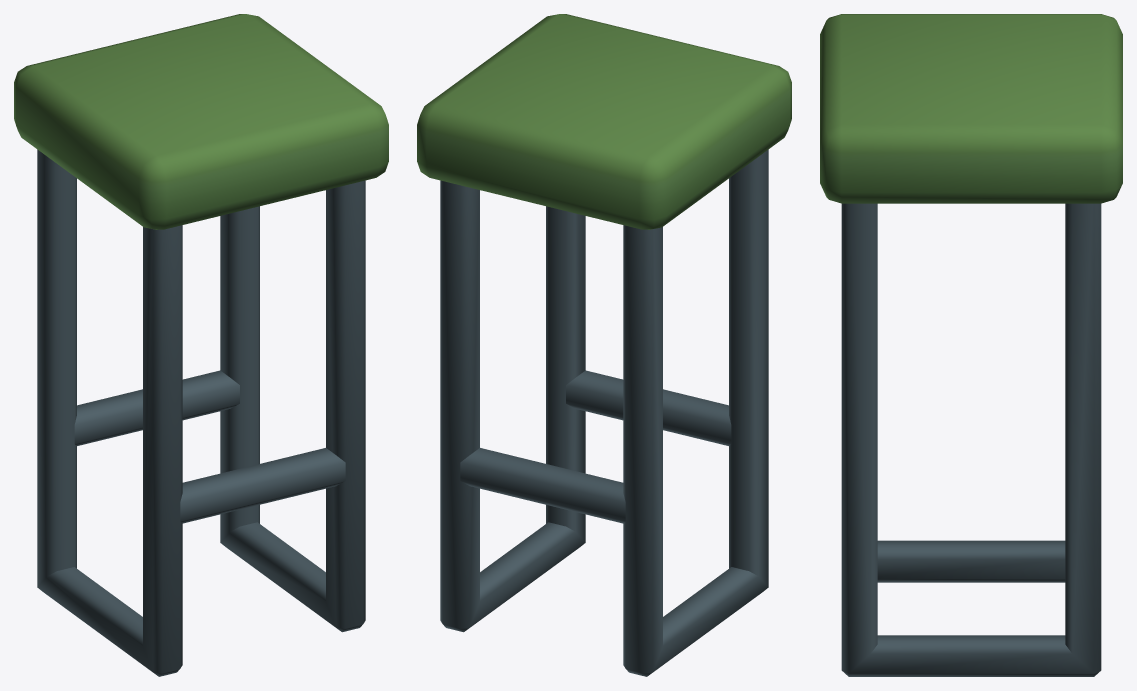
Rendered from Chair_05.glb.
3 views of the same model, side by side, from view 1: azimuth 30°, elevation 25°; view 2: azimuth 150°, elevation 25°; view 3: azimuth 270°, elevation 25° (orthographic). The views are drawn at different scales.
Parts seen in each view (by area): view 1: Chair_05; view 2: Chair_05; view 3: Chair_05.
Boxes of the visible parts, left/top/right/bottom form: Chair_05: left=14, top=14, right=388, bottom=676; Chair_05: left=417, top=14, right=791, bottom=676; Chair_05: left=820, top=14, right=1122, bottom=676.
Bounding box in the file's own units: 0.42 × 0.85 × 0.42.
Materials: 1 (1 with a texture image).
